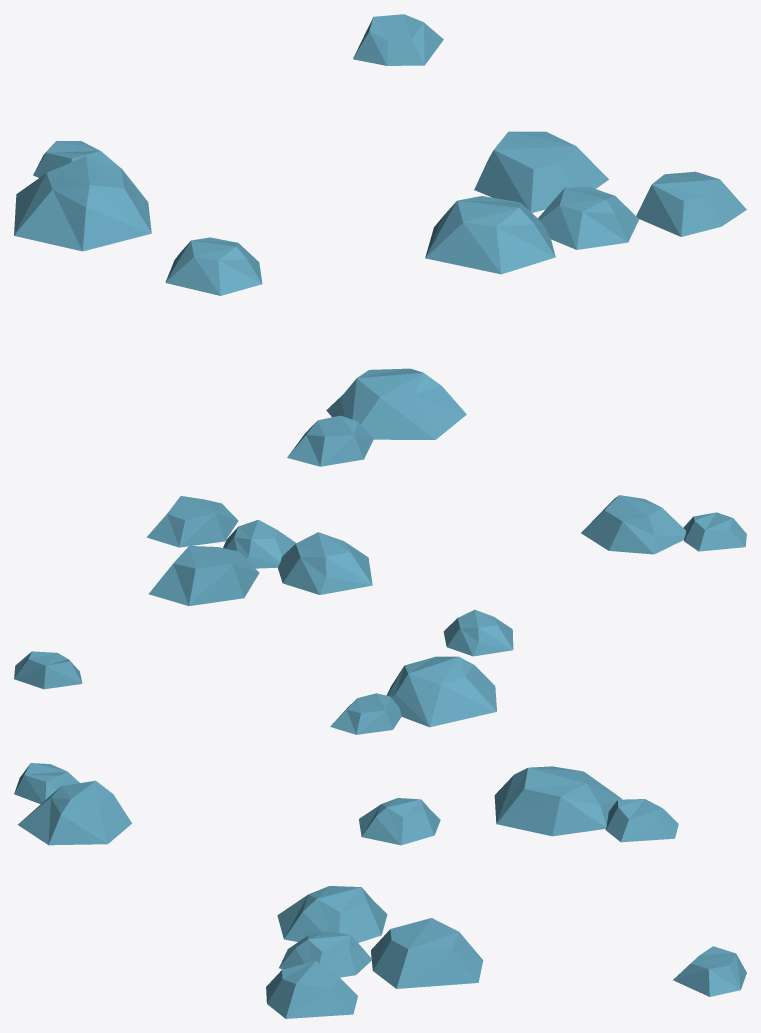
The model's file is SM_Env_Rocks_01.glb.
3 renders of one model, top to bottom at view 1: azimuth 30°, elevation 25°; view 2: azimuth 150°, elevation 25°; view 3: azimuth 270°, elevation 25°, orthographic. The views are drawn at different scales.
Visible parts, largest first — view 1: SM_Env_Rocks_01; view 2: SM_Env_Rocks_01; view 3: SM_Env_Rocks_01.
Part boxes in pixels (x1,y1,x2,y2): SM_Env_Rocks_01: [14, 14, 746, 466]; SM_Env_Rocks_01: [14, 495, 746, 734]; SM_Env_Rocks_01: [14, 763, 746, 1018].
Bounding box in the file's own units: 0.0273 × 0.00198 × 0.0341.
